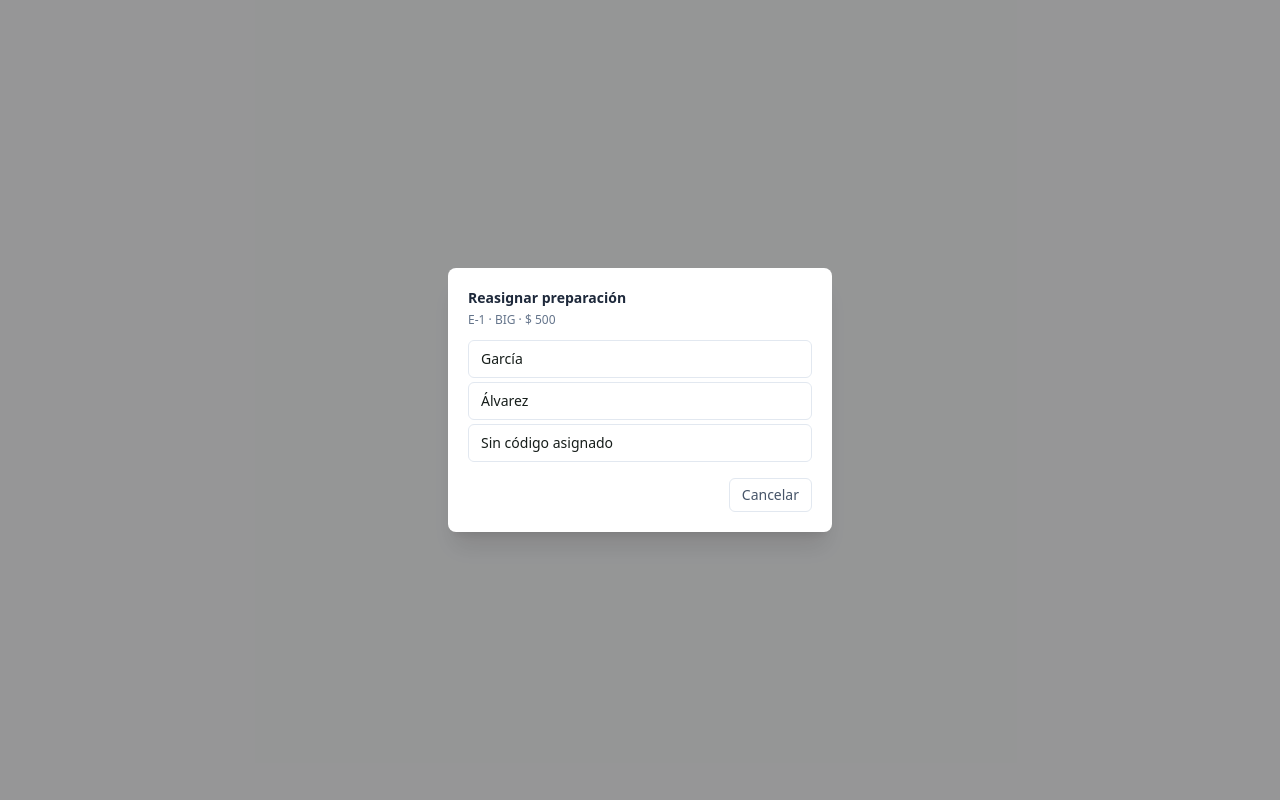
Test: MapaReasignarPanel › un chofer multi-código abre el selector de códigos
Later steps or results of the test are not shown.
Click the button "Álvarez".
click(505, 400)  # box [468,382,812,420]
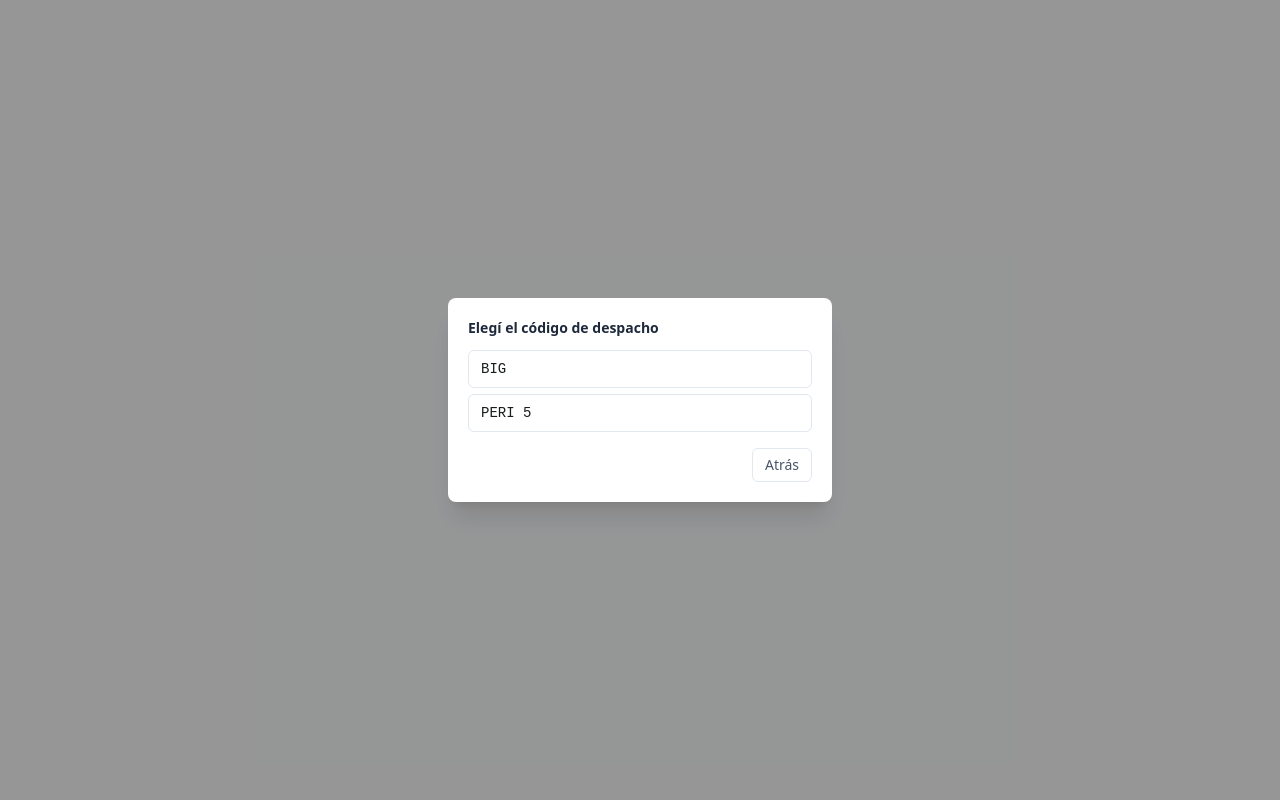
expect the heading "Elegí el código de despacho" is shown: met, box [468,318,659,337]
